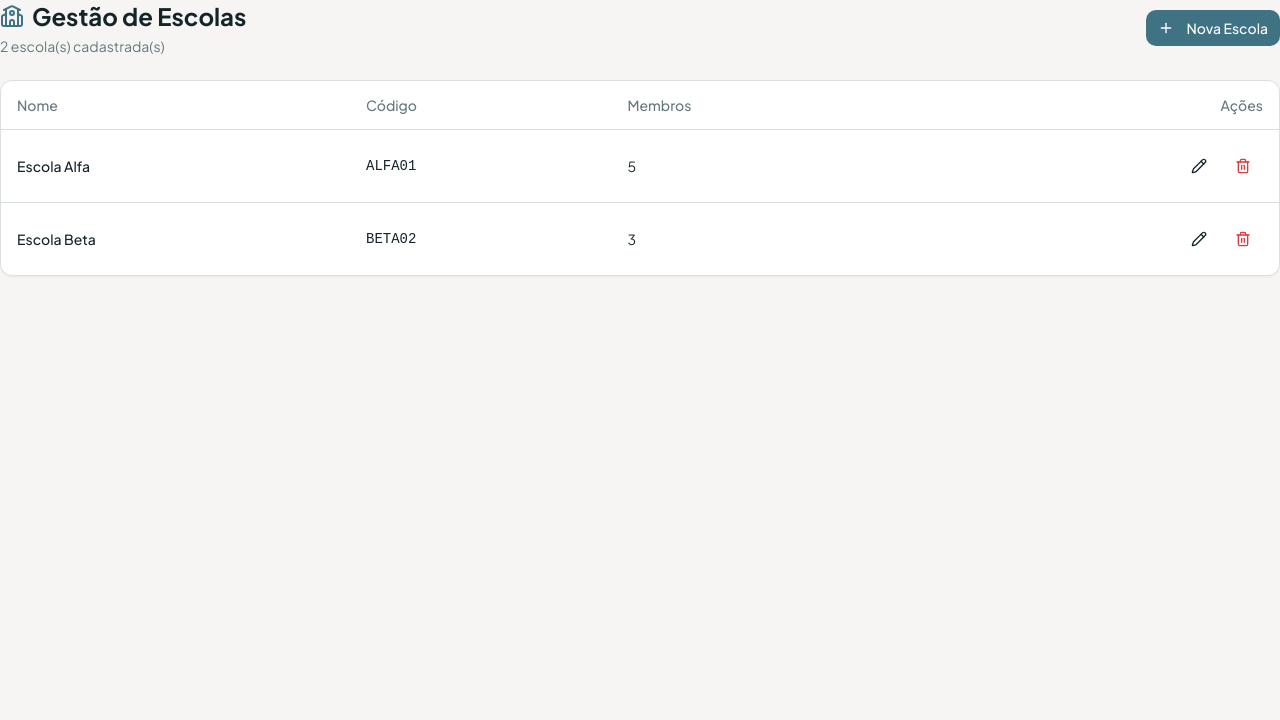
Scenario: SchoolManagement › Edit school dialog › opens edit dialog with pre-filled name
Step 1. Click the button titled "Editar" in the row of "Escola Alfa" → {"x": 1199, "y": 166}, box [1179,146,1219,186]
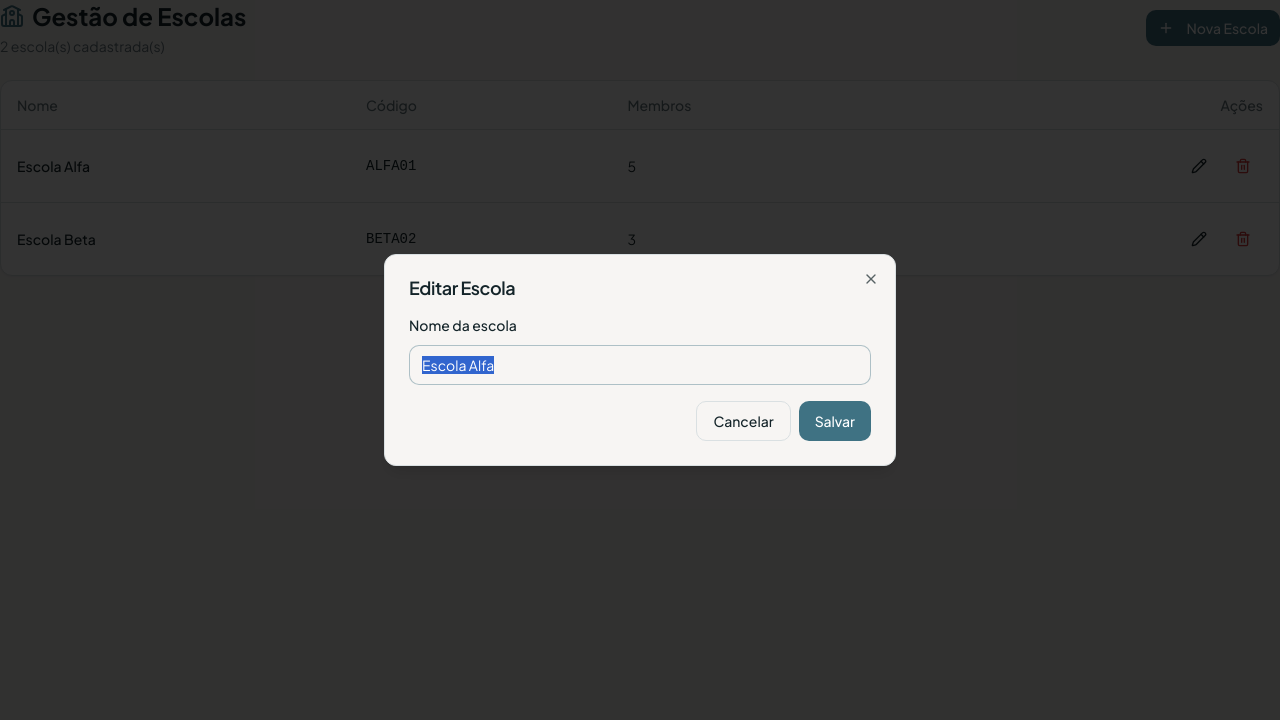
Expected: the dialog is shown, [384,254,896,466]
Expected: the field labelled "Nome da escola" holds "Escola Alfa", [409,345,871,385]
